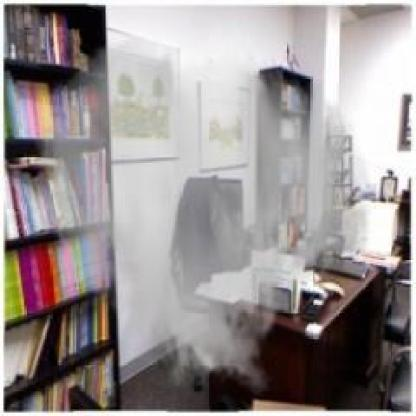Smoke: (32, 34, 375, 398)
